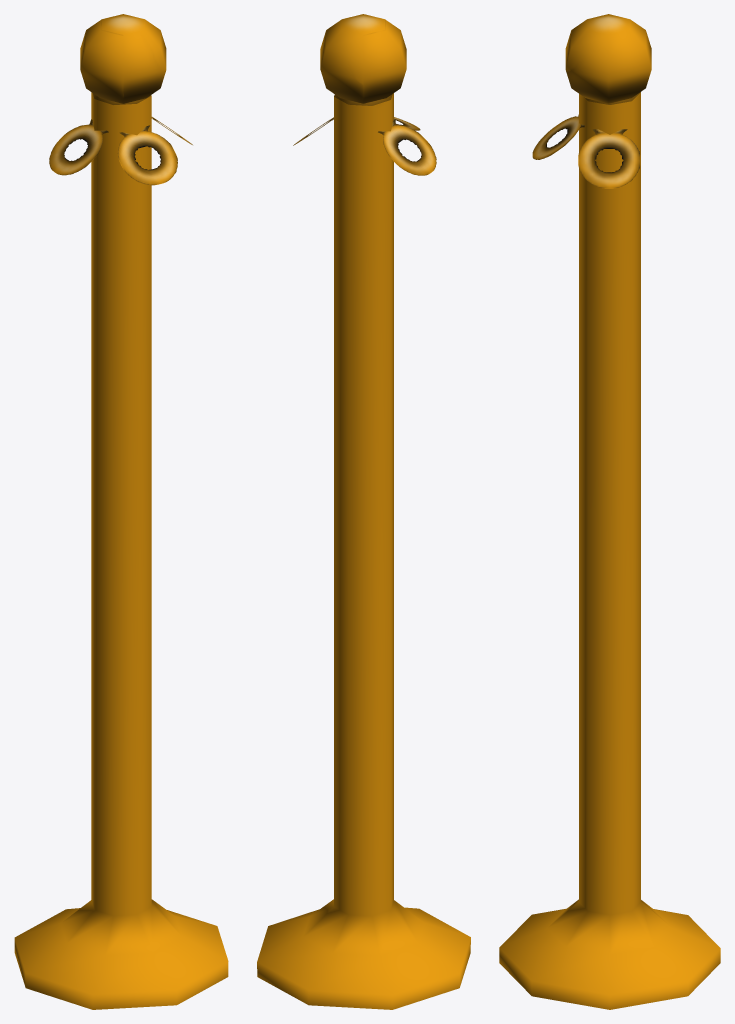
Rendered from museum_pole_los.fbx.
3 views of the same model, side by side, from view 1: azimuth 30°, elevation 25°; view 2: azimuth 150°, elevation 25°; view 3: azimuth 270°, elevation 25° (orthographic).
Visible parts, largest first — view 1: pCylinder16; view 2: pCylinder16; view 3: pCylinder16.
Boxes of the visible parts, x1,y1,x2,y2 form: pCylinder16: (14,14,228,1009); pCylinder16: (257,14,470,1009); pCylinder16: (499,14,720,1009).
Bounding box in the file's own units: 1.31 × 6.18 × 1.31.
